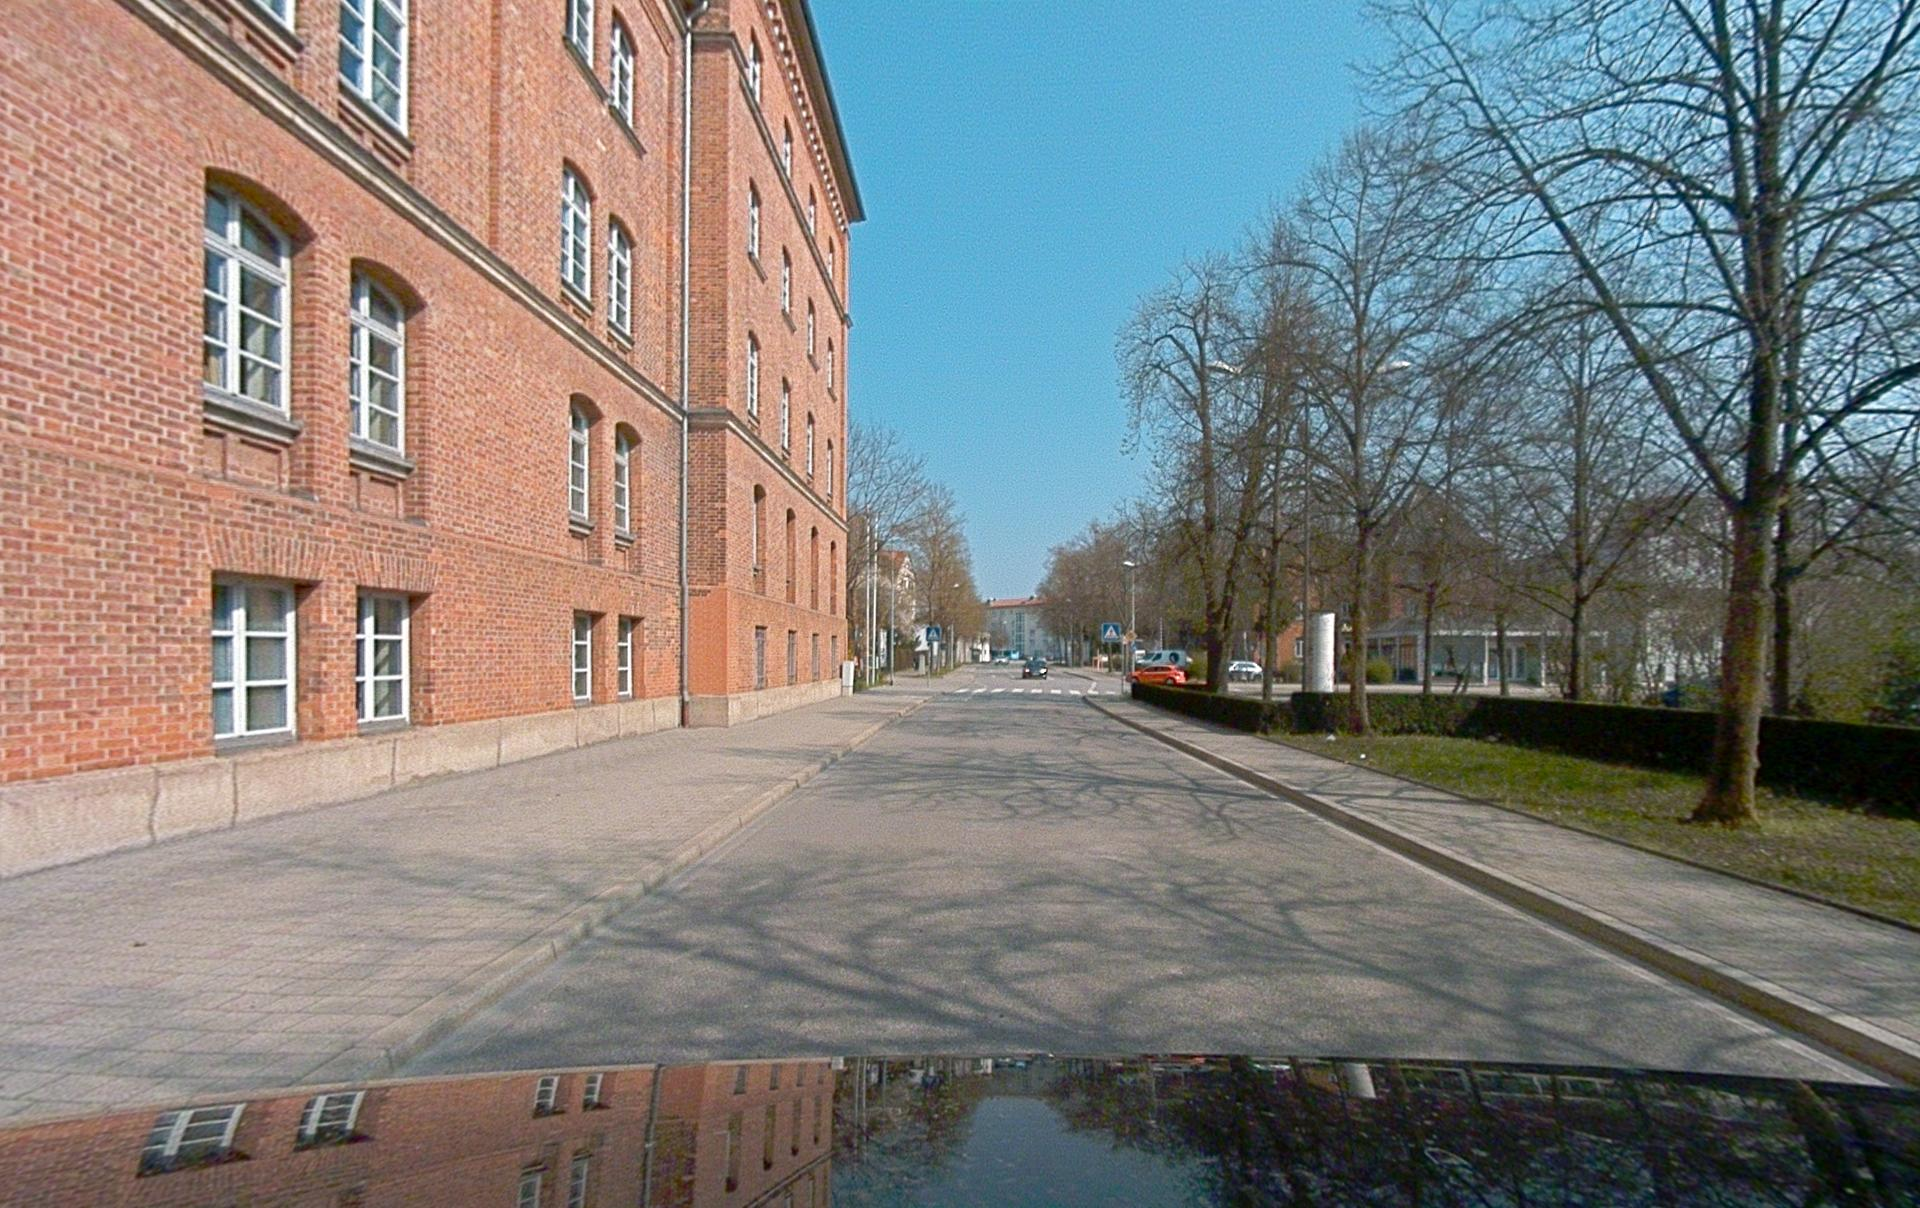car: (1127, 664, 1187, 689), (1137, 650, 1194, 672), (1227, 660, 1263, 682), (1023, 657, 1049, 678), (993, 649, 1021, 665)
traffic sign: (1101, 622, 1120, 642)
